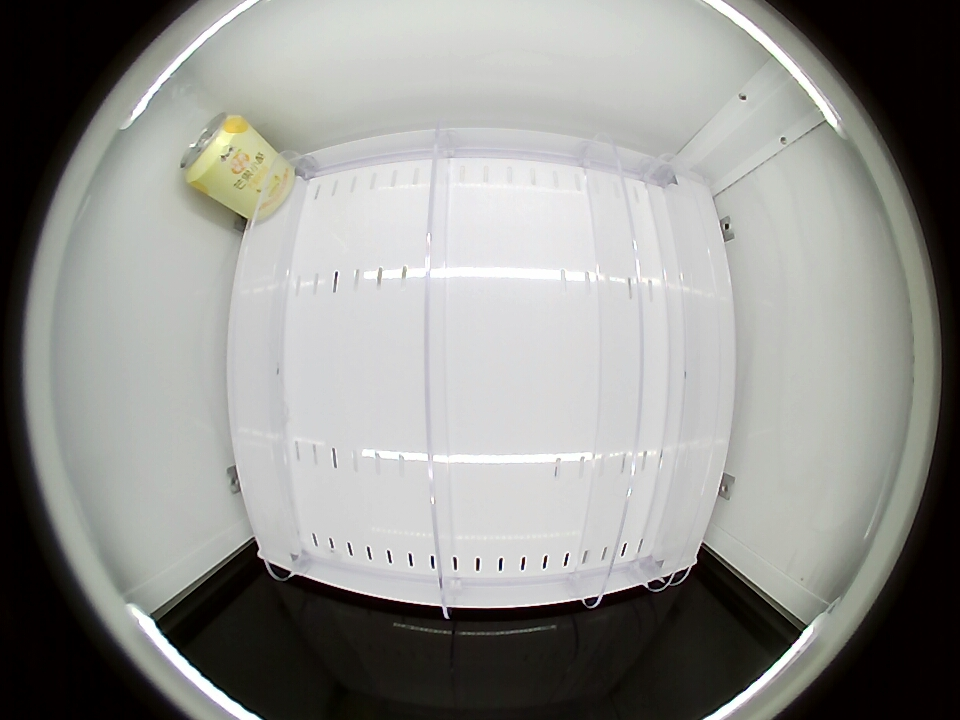mangguoxiaolao: (180, 113, 247, 190)
